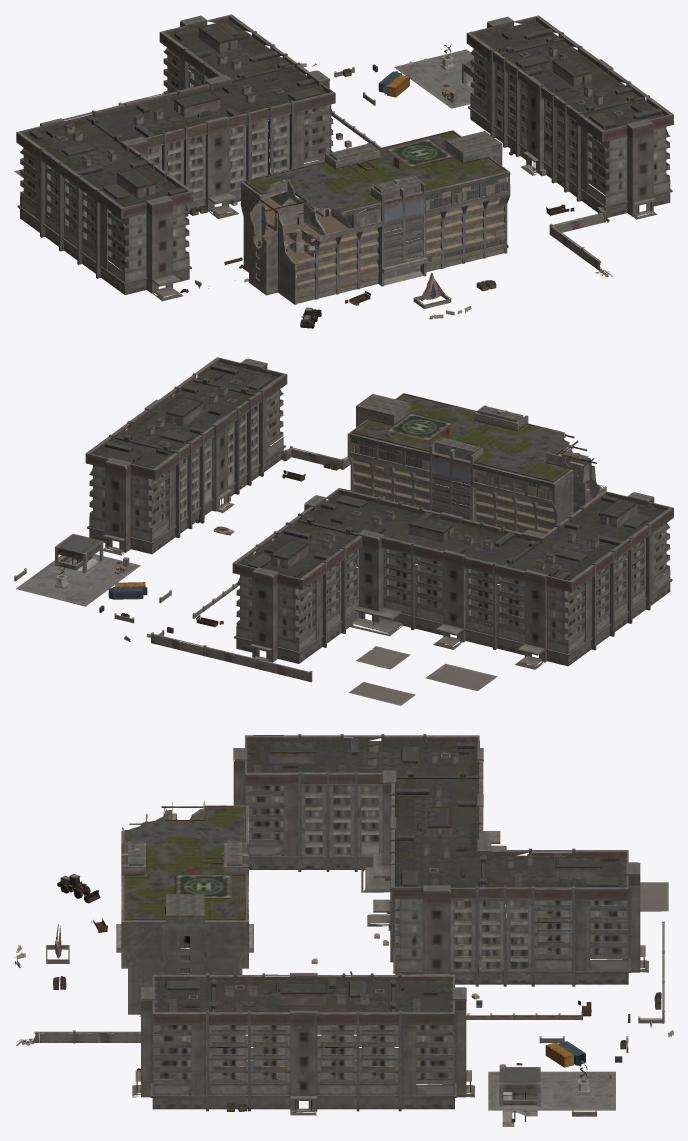
The model's file is apartments_complex_1-mid.glb.
3 views of the same model, one above another, from view 1: azimuth 30°, elevation 25°; view 2: azimuth 150°, elevation 25°; view 3: azimuth 270°, elevation 25° (orthographic). The views are drawn at different scales.
Visible parts, largest first — view 1: HLOD_apartment_complex_1; view 2: HLOD_apartment_complex_1; view 3: HLOD_apartment_complex_1.
Boxes of the visible parts, box(x1,y1,x2,y2) form: HLOD_apartment_complex_1: box(14, 14, 673, 328); HLOD_apartment_complex_1: box(14, 357, 673, 705); HLOD_apartment_complex_1: box(14, 734, 673, 1126).
Size of the model in its own units: 174 by 36.6 by 170.
1 material, 1 textured.
